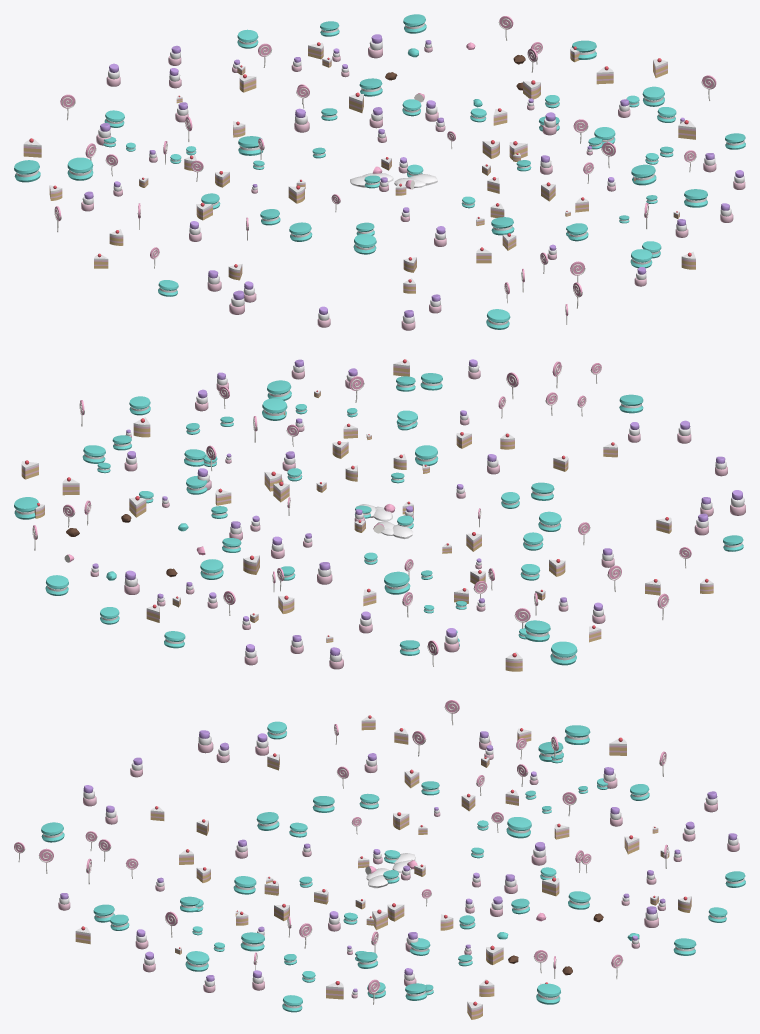
Rendered from CandyForest_GameplayProps.fbx.
3 renders of one model, top to bottom at view 1: azimuth 30°, elevation 25°; view 2: azimuth 150°, elevation 25°; view 3: azimuth 270°, elevation 25°, orthographic. The views are drawn at different scales.
Visible parts, largest first — view 1: CAN_Macaron_Rock_61; view 2: CAN_Macaron_Rock_83, CAN_Macaron_Rock_91; view 3: no part large enough to name.
Boxes of the visible parts, box(x1,y1,x2,y2) form: CAN_Macaron_Rock_61: box(67, 157, 93, 180); CAN_Macaron_Rock_83: box(550, 641, 577, 665); CAN_Macaron_Rock_91: box(384, 571, 410, 594).
Size of the model in its own units: 284 by 18.15 by 294.
